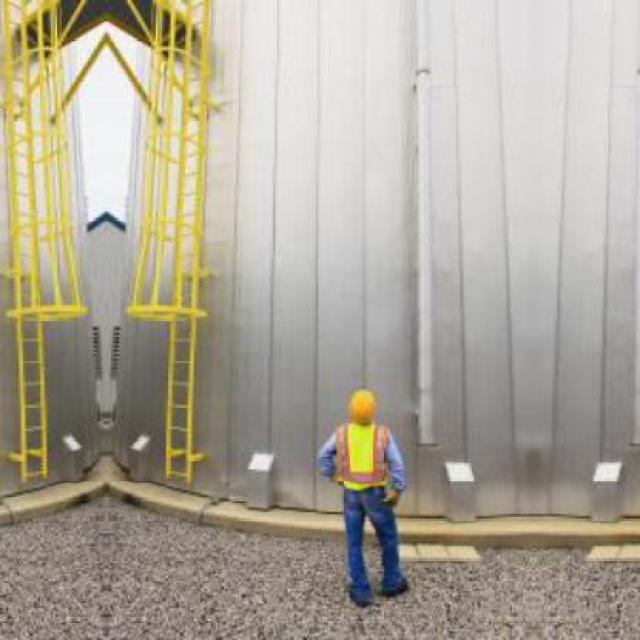Reflective-Jacket: (327, 422, 404, 504)
Safety-Helmet: (338, 380, 387, 428)
